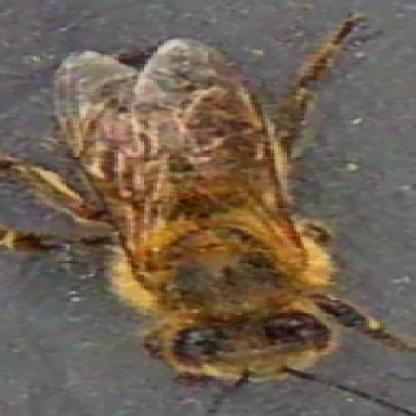bee: (27, 34, 366, 394)
